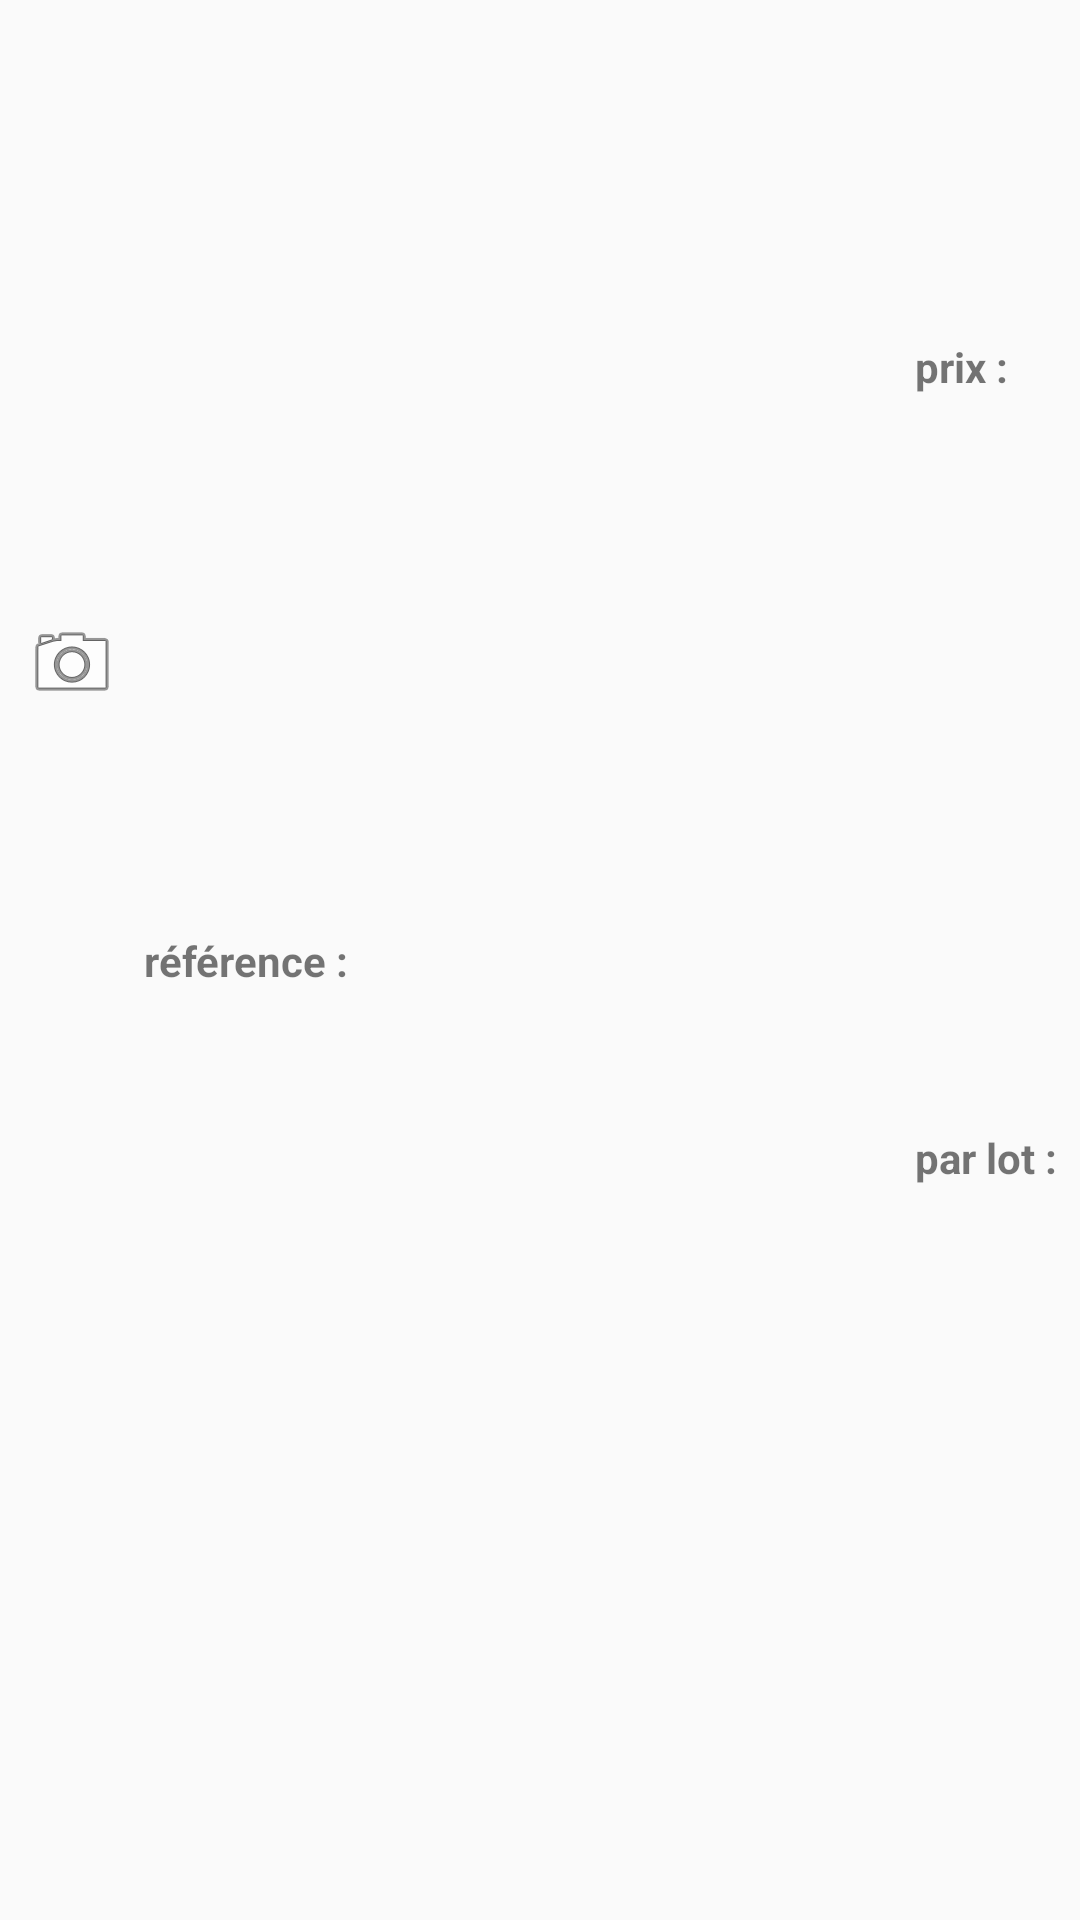

Screen size 1080*1920. Icon name, then its center in pixels as point (x, y):
camera: point (72, 661)
